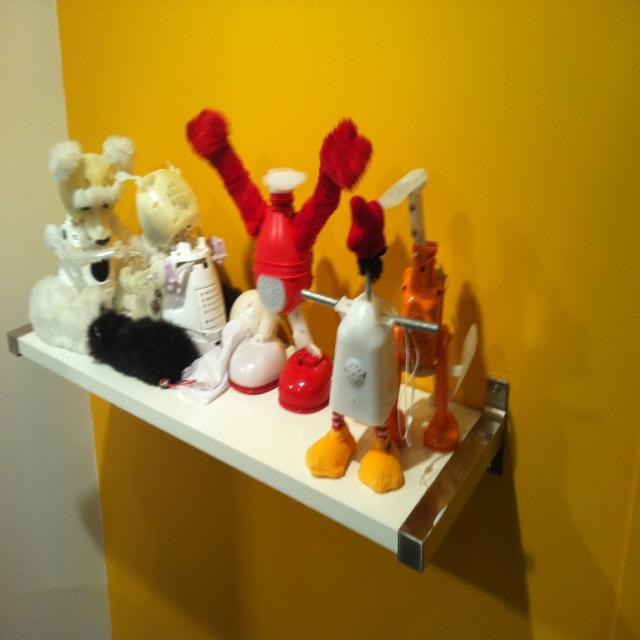Toy: (184, 107, 378, 416), (297, 190, 439, 490), (369, 164, 477, 449), (114, 159, 235, 372), (30, 138, 138, 349), (86, 314, 207, 397)
